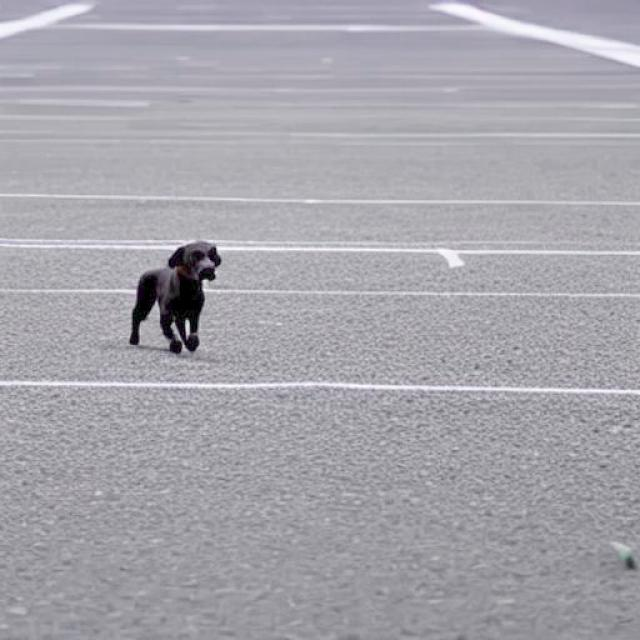Dog: (128, 239, 222, 357)
